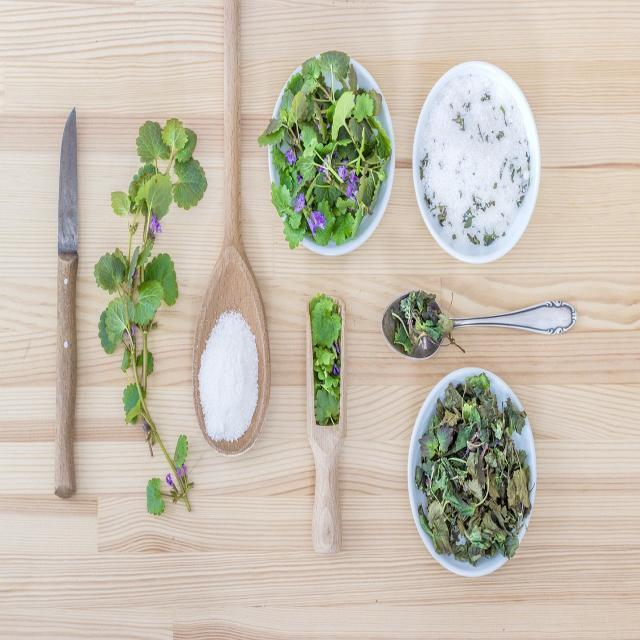Knife: (55, 108, 79, 498)
